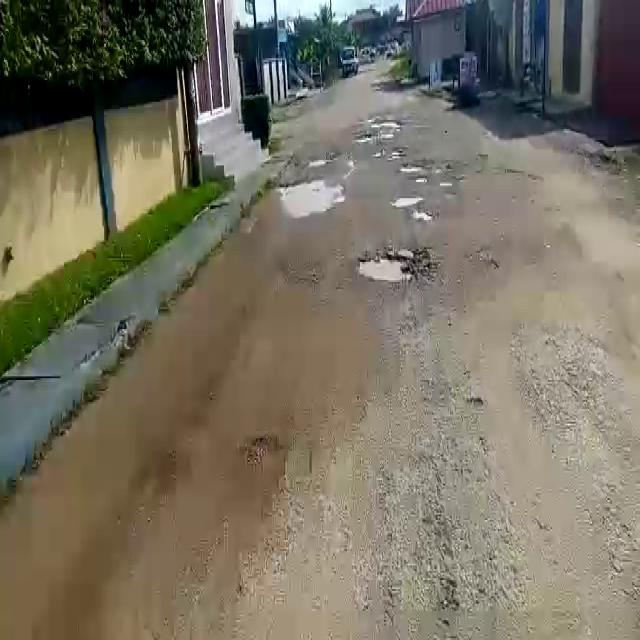Pothole: (354, 244, 430, 284), (280, 177, 346, 220), (392, 195, 423, 208), (411, 208, 435, 222)
